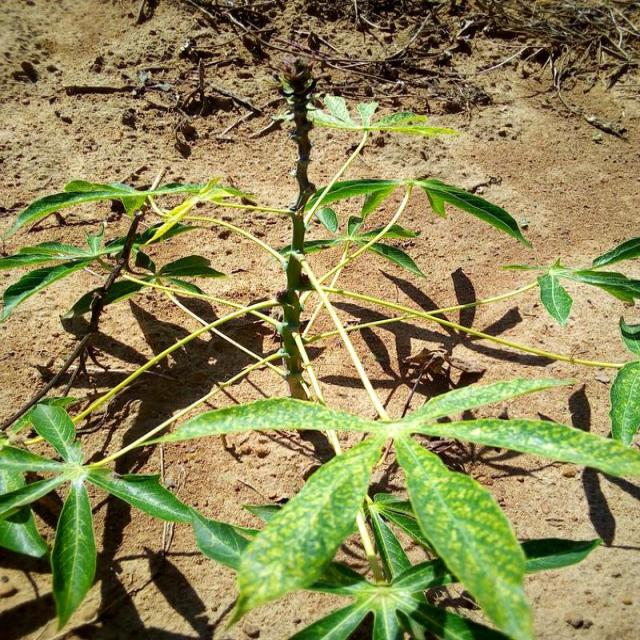cassava leaf: (220, 433, 386, 634), (394, 430, 536, 638), (51, 478, 98, 630)
